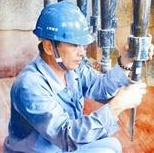hard-hat: (31, 1, 93, 45)
